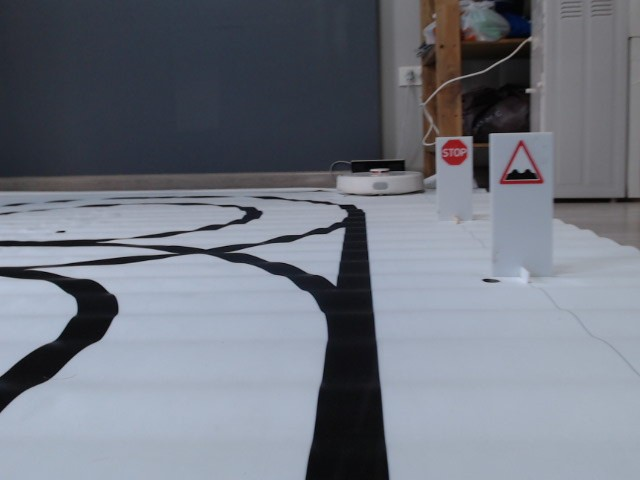Nerov: (499, 138, 546, 186)
Stop: (441, 139, 468, 166)
